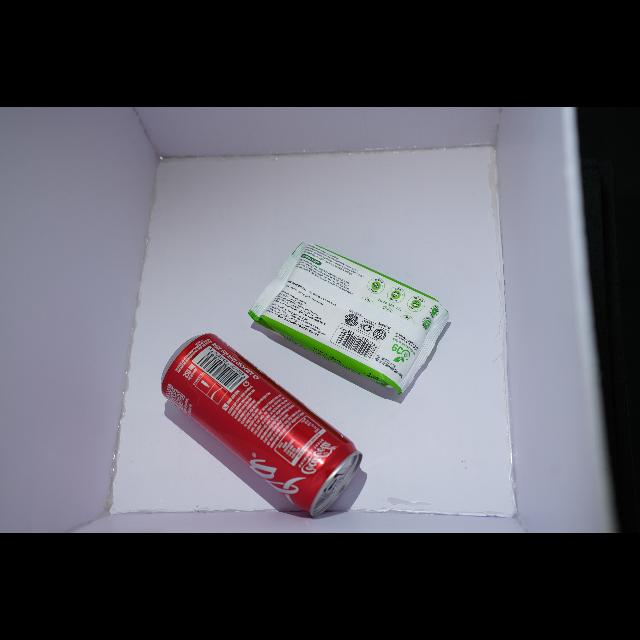coca_cola: (161, 334, 362, 516)
khan_giay: (249, 244, 449, 395)
